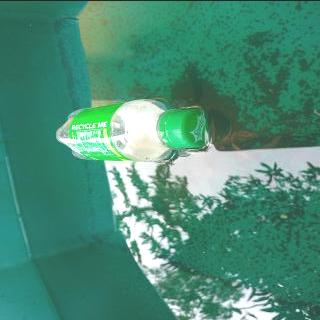bottle: (53, 97, 207, 163)
